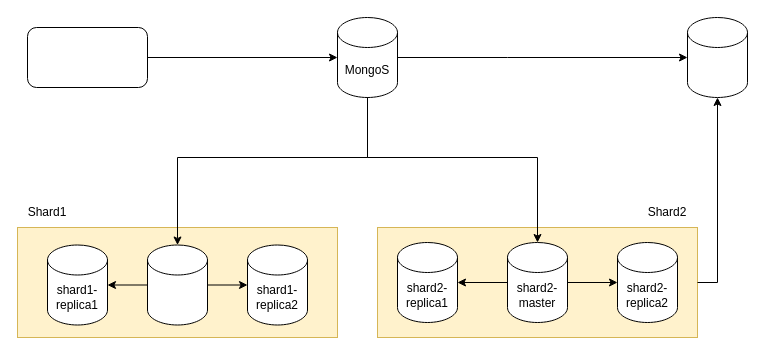
The diagram is 765 pixels wide and 355 high, and some of its shapes have lost their labels. The shapes that lost their labels are listed below. From the top down, each one's box as (x1, y1, x2, y2) in pixels, then its label:
(26, 26, 148, 88): pymongo-api
(686, 16, 748, 98): ConfigServ
(146, 244, 208, 325): shard1-master
